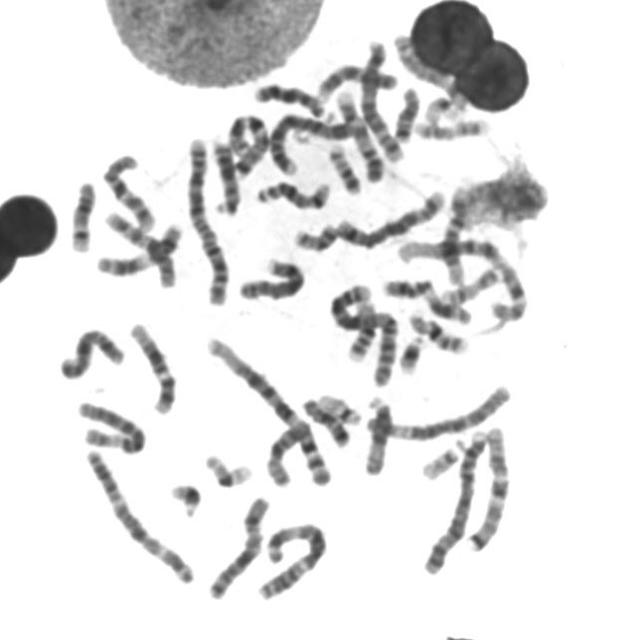A1: (200, 330, 336, 489), (388, 230, 532, 323)
A2: (181, 130, 234, 308), (325, 280, 401, 389)
A3: (79, 444, 198, 586), (252, 516, 331, 602)
B4: (418, 423, 493, 576), (264, 108, 360, 176)
B5: (332, 184, 448, 251), (356, 34, 406, 164)
C10: (99, 208, 179, 288), (97, 148, 159, 234)
C11: (94, 217, 184, 280), (379, 272, 475, 326)
C12: (125, 316, 180, 416), (438, 179, 474, 287)
C6: (361, 378, 515, 442), (73, 395, 148, 455)
C7: (460, 420, 516, 553), (223, 106, 272, 180)
C8: (388, 38, 465, 108), (234, 252, 309, 303)
C9: (332, 84, 388, 184), (312, 57, 404, 102)
D13: (249, 76, 331, 121), (206, 134, 242, 216)
D14: (250, 174, 334, 211), (66, 174, 100, 255)
D15: (261, 416, 323, 489), (358, 391, 396, 477)
E16: (404, 305, 472, 356), (342, 294, 378, 364)
E17: (435, 260, 505, 306), (409, 113, 493, 141)
E18: (297, 392, 354, 448), (388, 82, 422, 144)
F19: (200, 447, 256, 490), (419, 90, 467, 124)
F20: (323, 138, 365, 196), (288, 217, 341, 254)
G21: (165, 477, 205, 520), (393, 329, 428, 376)
G22: (417, 438, 466, 482), (314, 387, 364, 427)
X: (203, 490, 273, 601), (54, 322, 127, 381)
